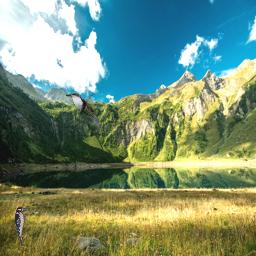Cuckoo: (66, 93, 105, 133)
Woodpecker: (14, 206, 26, 246)
